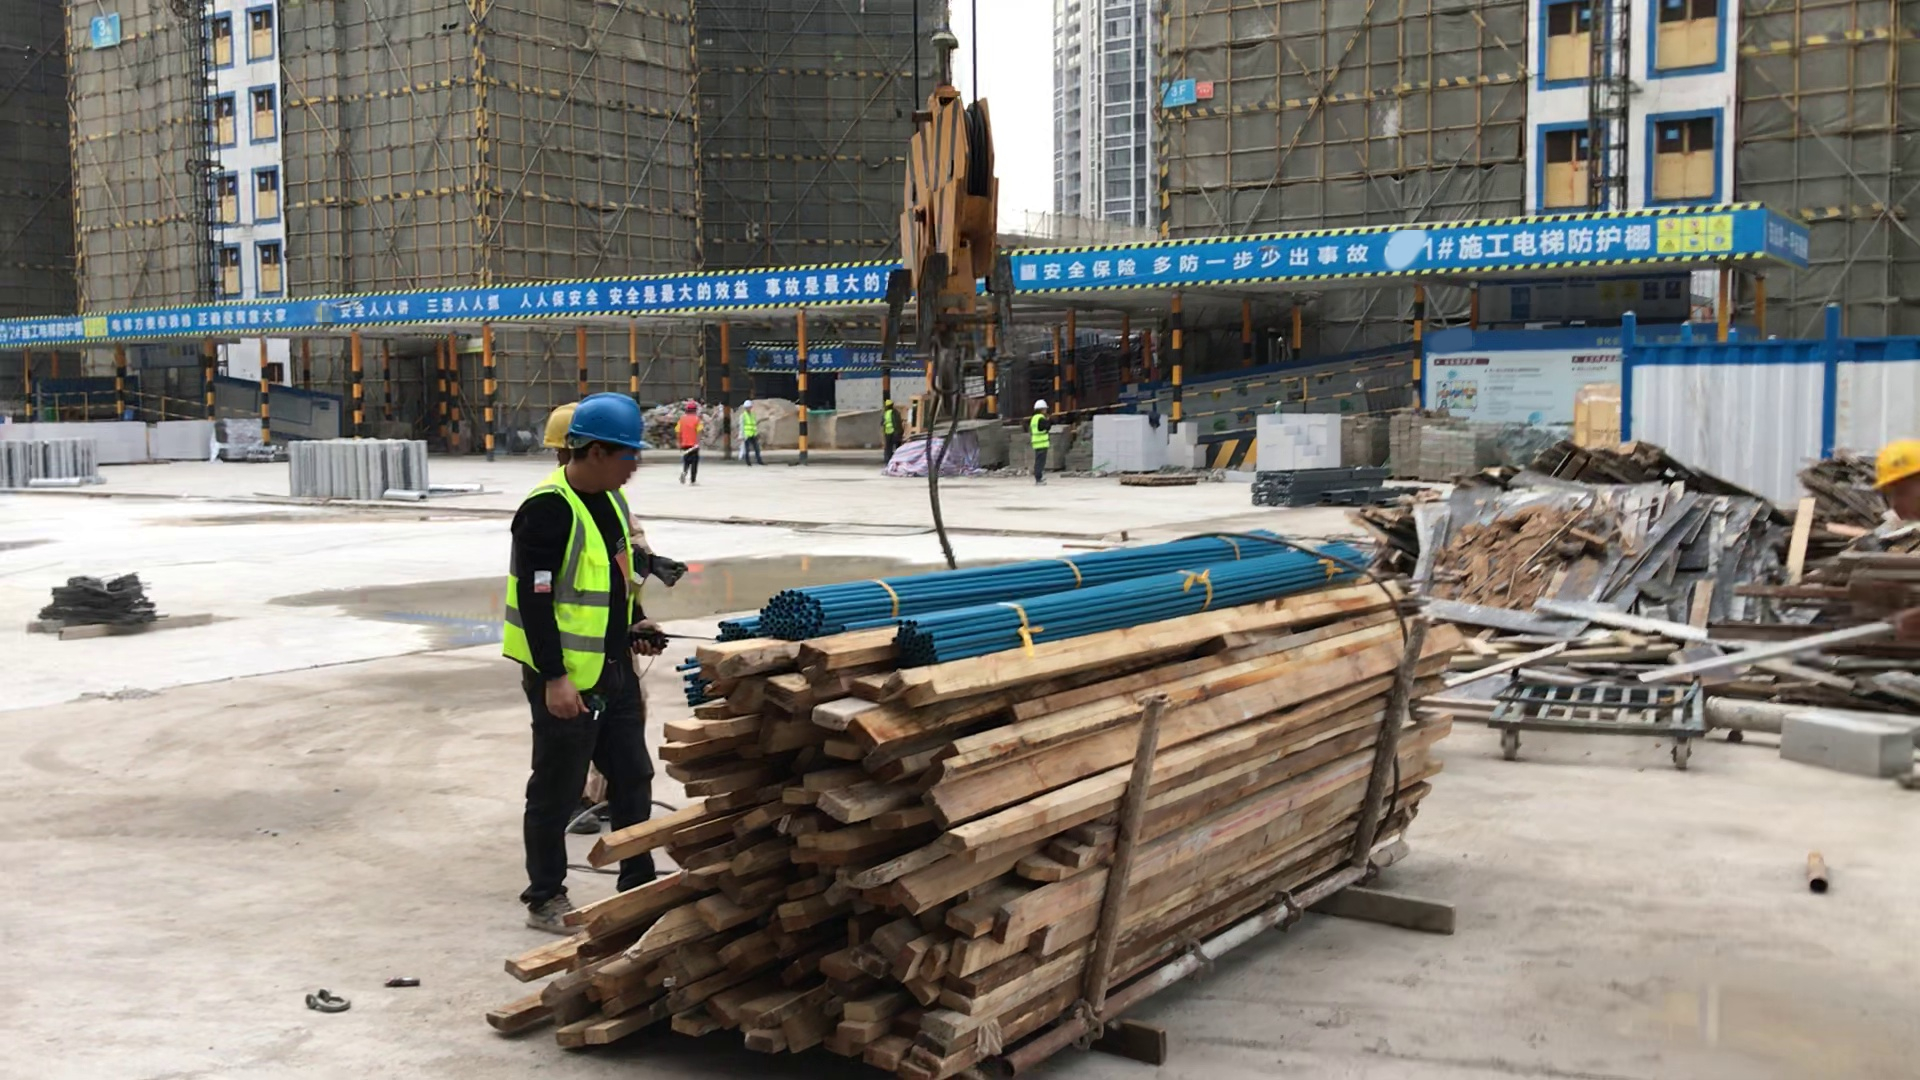board: (1402, 468, 1779, 664), (1767, 437, 1920, 635)
brick: (4, 412, 260, 459), (1776, 705, 1917, 791), (1084, 403, 1206, 476), (1242, 405, 1344, 472)
fence: (1126, 362, 1422, 431)
helmet: (563, 382, 647, 456), (1865, 432, 1920, 491), (530, 392, 574, 449), (1026, 390, 1054, 414), (682, 394, 700, 414), (739, 394, 757, 414), (882, 393, 897, 409)
hook: (848, 23, 1094, 414)
person: (492, 369, 697, 958), (1011, 379, 1078, 506), (515, 372, 586, 491), (1860, 431, 1920, 528), (875, 384, 919, 484), (675, 387, 709, 488), (724, 387, 765, 470)
slogan: (448, 200, 1763, 329), (2, 282, 457, 365), (1394, 303, 1619, 437), (738, 331, 926, 388), (1750, 196, 1817, 278), (1150, 62, 1231, 128), (81, 8, 130, 65)
vest: (503, 484, 668, 700), (1024, 410, 1055, 451), (678, 413, 704, 454), (736, 411, 762, 444), (877, 408, 901, 440)
wood: (481, 523, 1469, 1080), (1749, 534, 1920, 669), (1338, 408, 1488, 477)
